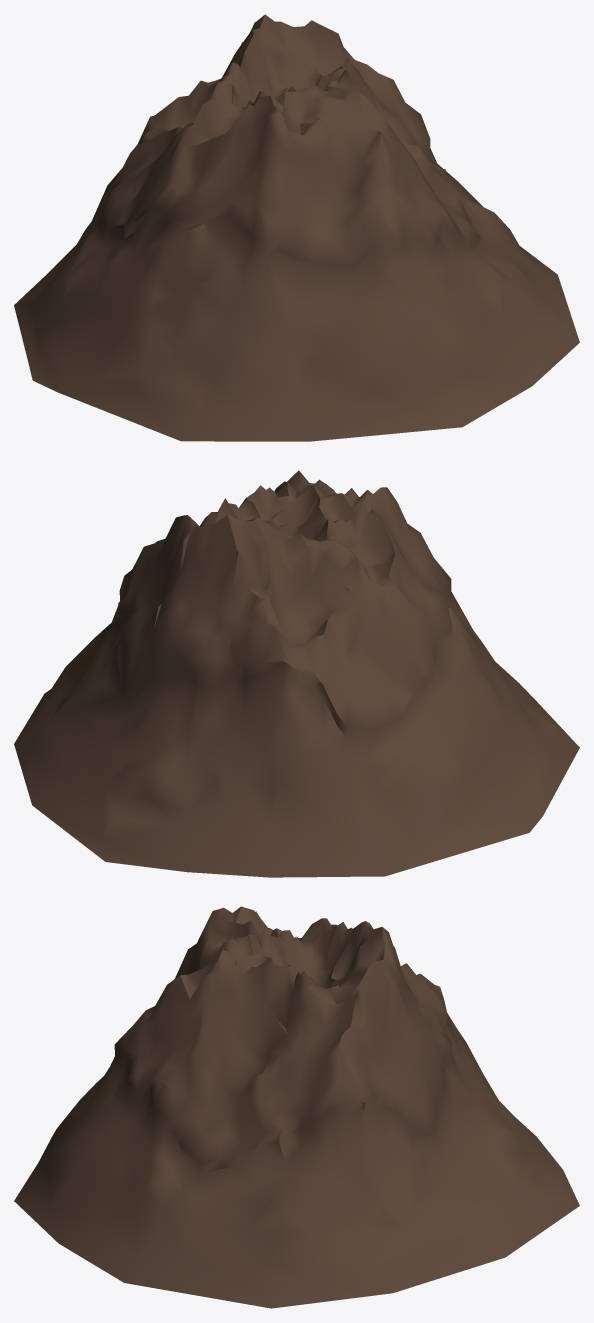
The model's file is Mountain_1.fbx.
3 renders of one model, top to bottom at view 1: azimuth 30°, elevation 25°; view 2: azimuth 150°, elevation 25°; view 3: azimuth 270°, elevation 25°, orthographic. The views are drawn at different scales.
Visible parts, largest first — view 1: PP_Forest_Mountain_Moss_02.001; view 2: PP_Forest_Mountain_Moss_02.001; view 3: PP_Forest_Mountain_Moss_02.001.
Boxes of the visible parts, bbox=[...] form: PP_Forest_Mountain_Moss_02.001: bbox=[14, 14, 579, 441]; PP_Forest_Mountain_Moss_02.001: bbox=[14, 470, 579, 877]; PP_Forest_Mountain_Moss_02.001: bbox=[14, 906, 579, 1308].
Bounding box in the file's own units: 40.42 × 40.42 × 21.3.
